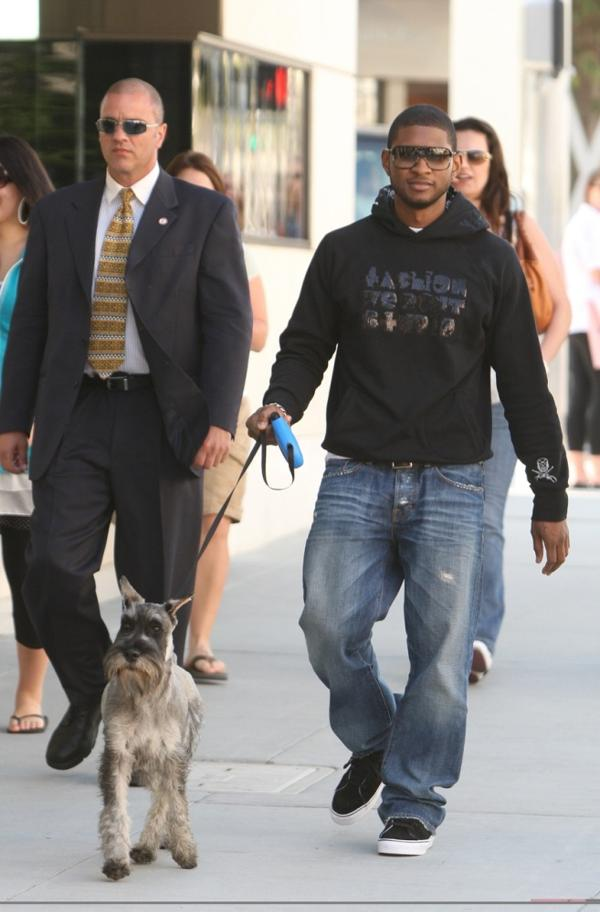person: (248, 106, 568, 855)
